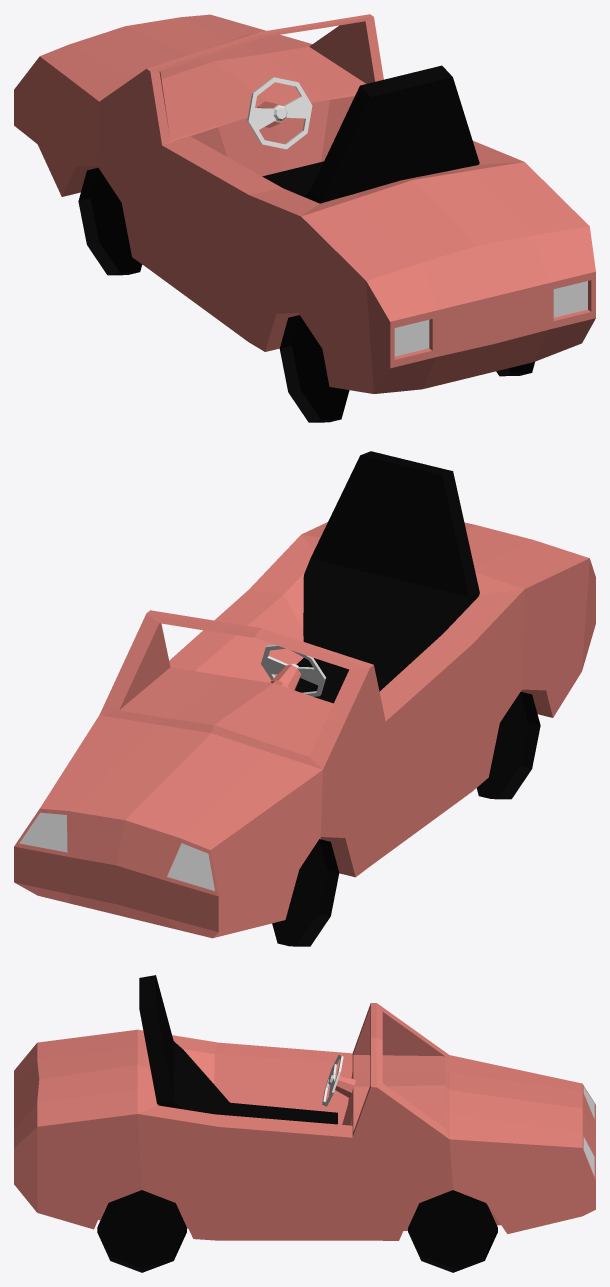
File: Car_1.0.fbx
3 renders of one model, top to bottom at view 1: azimuth 30°, elevation 25°; view 2: azimuth 150°, elevation 25°; view 3: azimuth 270°, elevation 25°, orthographic. The views are drawn at different scales.
Visible parts, largest first — view 1: Cube, Circle.001; view 2: Cube, Circle.001; view 3: Cube, Circle.001.
Boxes of the visible parts, x1,y1,x2,y2 form: Cube: (14,14,595,422); Circle.001: (247,77,312,149); Cube: (14,451,595,946); Circle.001: (261,644,326,696); Cube: (14,975,595,1272); Circle.001: (322,1055,343,1106).
Bounding box in the file's own units: 200 × 270 × 584.
